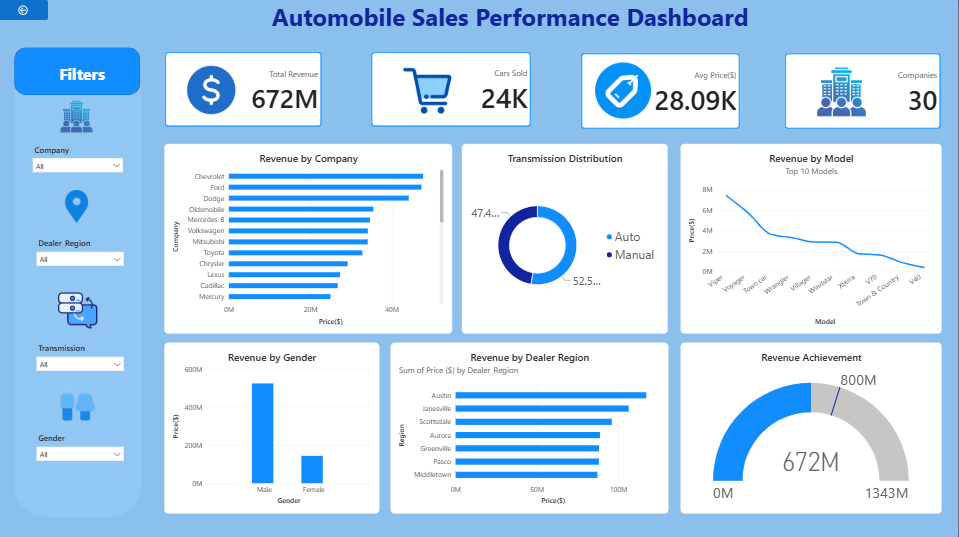

The dashboard page shown, as its layout file describes it:
{"tool":"powerbi","page":{"name":"Page 1","canvas":[1920,1080],"ordinal":0},"visuals":[{"type":"shape","box":[32,120,254,914],"z":0},{"type":"cardVisual","title":"Total Revenue","fields":{"Data":["Table1.Total Revenue"]},"box":[332,102,316,152],"z":1000},{"type":"cardVisual","fields":{"Data":["Table1.Cars Sold"]},"box":[746,102,322,152],"z":2000},{"type":"cardVisual","fields":{"Data":["Table1.Average Price($)"]},"box":[1166,104,320,154],"z":3000},{"type":"cardVisual","fields":{"Data":["Table1.No.of Companies"]},"box":[1572,104,314,154],"z":4000},{"type":"clusteredBarChart","title":"Revenue by Company","fields":{"Category":["Table1.Company"],"Y":["Sum(Table1.Price ($))"]},"box":[332,288,576,380],"z":5000},{"type":"donutChart","title":"Transmission Distribution","fields":{"Category":["Table1.Transmission"],"Y":["CountNonNull(Table1.Car_id)"]},"box":[928,288,412,380],"z":6000},{"type":"clusteredColumnChart","title":"Revenue by Gender","fields":{"Category":["Table1.Gender"],"Y":["Sum(Table1.Price ($))"]},"box":[332,684,430,342],"z":7000},{"type":"clusteredBarChart","title":"Revenue by Dealer Region","fields":{"Category":["Table1.Dealer_Region"],"Y":["Sum(Table1.Price ($))"]},"box":[784,684,556,342],"z":8000},{"type":"lineChart","title":"Revenue by Model","fields":{"Category":["Table1.Model"],"Y":["Sum(Table1.Price ($))"]},"box":[1364,288,522,380],"z":9000},{"type":"slicer","fields":{"Values":["Table1.Company"]},"box":[66,288,190,82],"z":10000},{"type":"slicer","fields":{"Values":["Table1.Transmission"]},"box":[72,684,184,120],"z":11000},{"type":"actionButton","box":[0,0,100,40],"z":12000},{"type":"slicer","fields":{"Values":["Table1.Gender"]},"box":[72,866,184,126],"z":13000},{"type":"slicer","fields":{"Values":["Table1.Dealer_Region"]},"box":[72,476,184,76],"z":14000},{"type":"textbox","box":[546.7,0,1080,96.7],"z":15000},{"type":"gauge","title":"Revenue Achievement","fields":{"Y":["Table1.Total Revenue"],"TargetValue":["Table1.Target Revenue"]},"box":[1364,684,522,342],"z":16000},{"type":"shape","box":[33,95.7,252,95],"z":17000},{"type":"textbox","box":[123,125.7,116,46],"z":18000},{"type":"actionButton","box":[0,0,100,40],"z":19000},{"type":"image","box":[372,70,108,220],"z":20000},{"type":"image","box":[804,104,108,154],"z":21000},{"type":"image","box":[1176,126,150,112],"z":22000},{"type":"image","box":[1606,132,164,102],"z":23000},{"type":"image","box":[116,766,88,76],"z":24000},{"type":"image","box":[118,576,84,92],"z":25000},{"type":"image","box":[90,380,134,66],"z":26000},{"type":"image","box":[114,200,84,66],"z":27000}]}

Visuals, with their boxes in screenshot pixels (x1, y1, x2, y2), scaled from the page's 1920x1080 canvas onto the 959x537 screenshot:
shape: 16, 60, 143, 514
"Total Revenue" cardVisual: 166, 51, 324, 126
cardVisual - Table1.Cars Sold: 373, 51, 533, 126
cardVisual - Table1.Average Price($): 582, 52, 742, 128
cardVisual - Table1.No.of Companies: 785, 52, 942, 128
"Revenue by Company" clusteredBarChart: 166, 143, 454, 332
"Transmission Distribution" donutChart: 464, 143, 669, 332
"Revenue by Gender" clusteredColumnChart: 166, 340, 381, 510
"Revenue by Dealer Region" clusteredBarChart: 392, 340, 669, 510
"Revenue by Model" lineChart: 681, 143, 942, 332
slicer - Table1.Company: 33, 143, 128, 184
slicer - Table1.Transmission: 36, 340, 128, 400
actionButton: 0, 0, 50, 20
slicer - Table1.Gender: 36, 431, 128, 493
slicer - Table1.Dealer_Region: 36, 237, 128, 274
textbox: 273, 0, 813, 48
"Revenue Achievement" gauge: 681, 340, 942, 510
shape: 16, 48, 142, 95
textbox: 61, 63, 119, 85
actionButton: 0, 0, 50, 20
image: 186, 35, 240, 144
image: 402, 52, 456, 128
image: 587, 63, 662, 118
image: 802, 66, 884, 116
image: 58, 381, 102, 419
image: 59, 286, 101, 332
image: 45, 189, 112, 222
image: 57, 99, 99, 132
